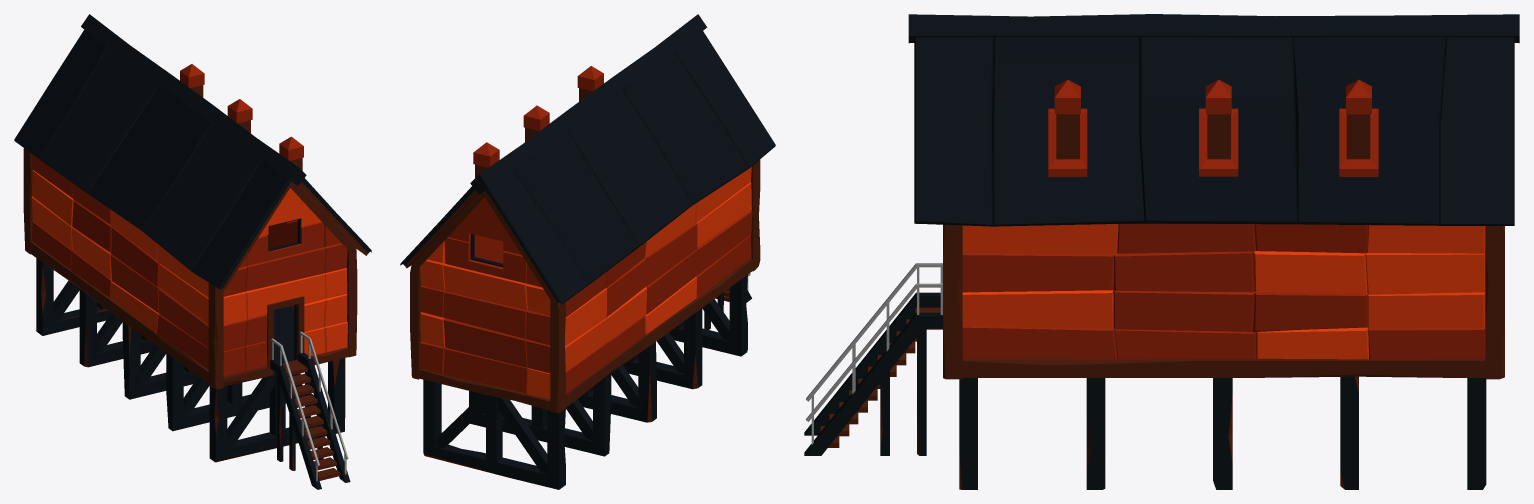
Rendered from Granary.fbx.
The picture shows the model from 3 angles, left to right: view 1: azimuth 30°, elevation 25°; view 2: azimuth 150°, elevation 25°; view 3: azimuth 270°, elevation 25°; orthographic projection. The views are drawn at different scales.
Visible parts, largest first — view 1: Granary; view 2: Granary; view 3: Granary.
Boxes of the visible parts, left/top/right/bottom form: Granary: left=14, top=14, right=371, bottom=489; Granary: left=400, top=14, right=775, bottom=489; Granary: left=804, top=14, right=1519, bottom=489.
Bounding box in the file's own units: 139 × 251 × 379.
